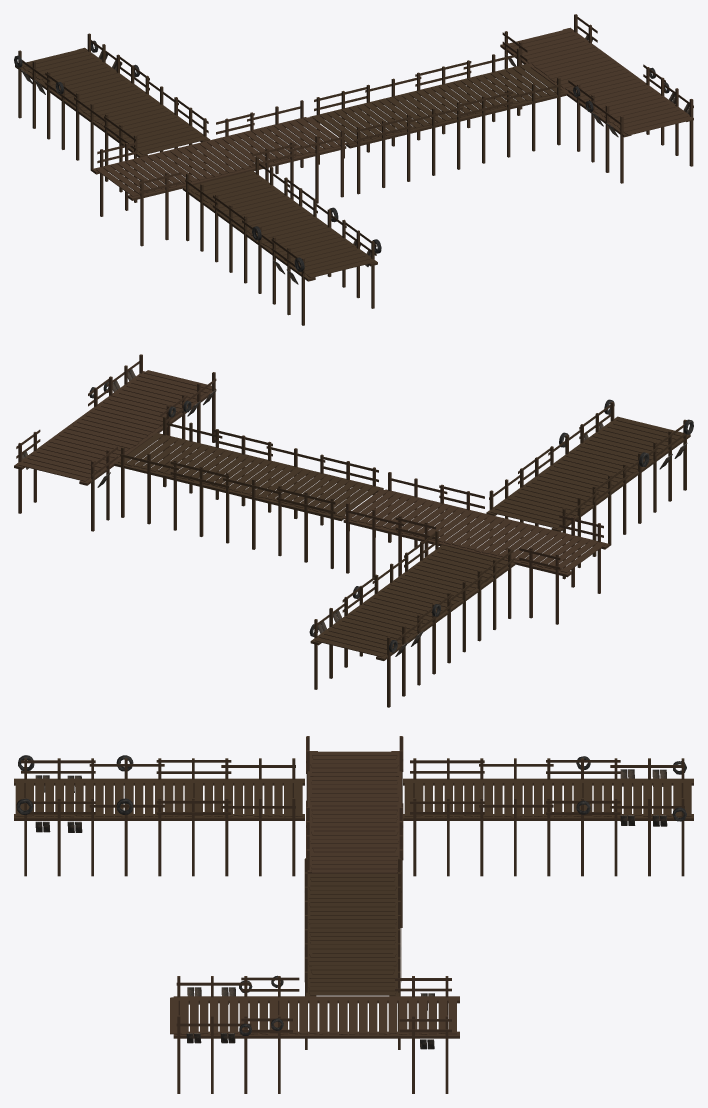
File: wharf.lod0.glb
The picture shows the model from 3 angles, top to bottom: view 1: azimuth 30°, elevation 25°; view 2: azimuth 150°, elevation 25°; view 3: azimuth 270°, elevation 25°; orthographic projection. The views are drawn at different scales.
Visible parts, largest first — view 1: Object_4, Object_3, Object_2; view 2: Object_4, Object_3, Object_2; view 3: Object_4, Object_2, Object_3.
Part boxes in pixels (left/top/right/bottom): Object_4: left=15, top=14, right=693, bottom=325; Object_3: left=14, top=40, right=669, bottom=271; Object_2: left=21, top=35, right=689, bottom=284; Object_4: left=14, top=354, right=690, bottom=707; Object_3: left=89, top=381, right=693, bottom=652; Object_2: left=22, top=369, right=687, bottom=656; Object_4: left=14, top=736, right=693, bottom=1093; Object_2: left=35, top=769, right=667, bottom=1049; Object_3: left=16, top=755, right=686, bottom=1035.
Bounding box in the file's own units: 29.98 × 3.8 × 29.87.
Materials: 3 (2 with a texture image).
